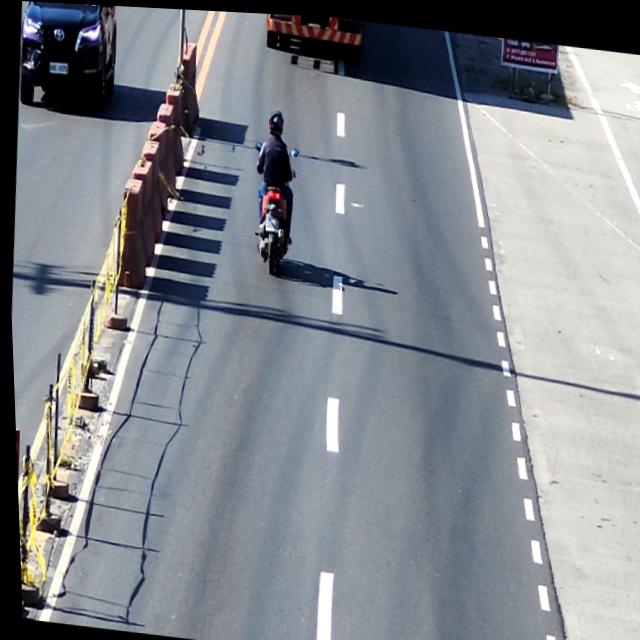Car: (14, 1, 118, 113)
License-Plate: (46, 58, 70, 77), (262, 212, 279, 232)
Motorcycle: (244, 137, 302, 274)
Truck: (264, 11, 366, 69)
